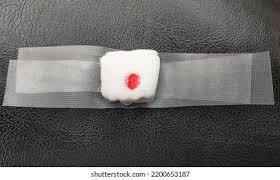cotton: (130, 51, 273, 107), (100, 50, 159, 104), (16, 60, 98, 93)
